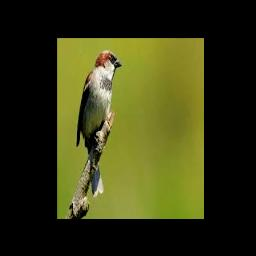Sparrow: (76, 50, 121, 197)
